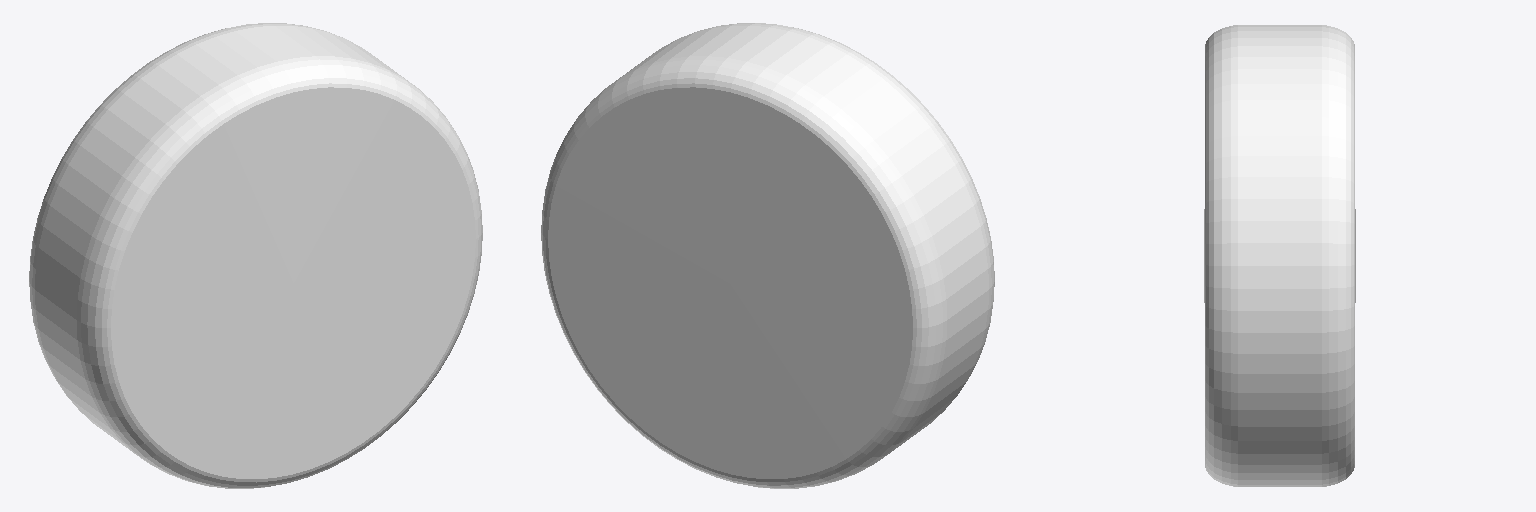
File: Fstop.obj
The picture shows the model from 3 angles: view 1: azimuth 30°, elevation 25°; view 2: azimuth 150°, elevation 25°; view 3: azimuth 270°, elevation 25°; orthographic projection.
Parts seen in each view (by area): view 1: node_id359_mesh_id360; view 2: node_id359_mesh_id360; view 3: node_id359_mesh_id360.
Boxes of the visible parts, x1=… form: node_id359_mesh_id360: x1=29, y1=23, x2=482, y2=488; node_id359_mesh_id360: x1=541, y1=23, x2=994, y2=488; node_id359_mesh_id360: x1=1204, y1=25, x2=1355, y2=486.
Bounding box in the file's own units: 0.512 × 0.512 × 0.1675.